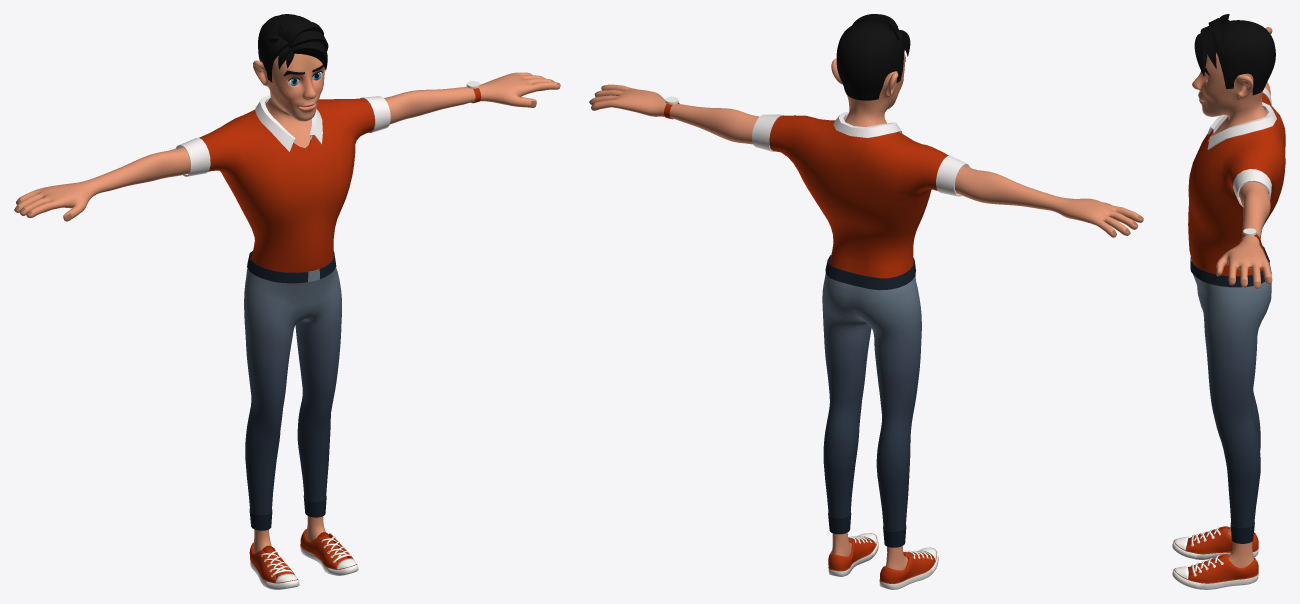
The model's file is hombre1.obj.
The picture shows the model from 3 angles, left to right: view 1: azimuth 30°, elevation 25°; view 2: azimuth 150°, elevation 25°; view 3: azimuth 270°, elevation 25°; orthographic projection.
Visible parts, largest first — view 1: D_1_mesh_003, D_2_mesh_001, Body_Vucud_006, Shoes_Plane_001, Hair_NurbsPath_001; view 2: D_2_mesh_001, D_1_mesh_003, Body_Vucud_006, Hair_NurbsPath_001, Shoes_Plane_001; view 3: D_2_mesh_001, D_1_mesh_003, Body_Vucud_006, Hair_NurbsPath_001, Shoes_Plane_001.
Part boxes in pixels (bbox=[...]): D_1_mesh_003: bbox=[175, 94, 390, 272]; D_2_mesh_001: bbox=[244, 251, 341, 530]; Body_Vucud_006: bbox=[14, 53, 560, 553]; Shoes_Plane_001: bbox=[249, 529, 358, 589]; Hair_NurbsPath_001: bbox=[258, 14, 328, 82]; D_2_mesh_001: bbox=[822, 255, 921, 547]; D_1_mesh_003: bbox=[752, 111, 970, 278]; Body_Vucud_006: bbox=[589, 51, 1143, 570]; Hair_NurbsPath_001: bbox=[836, 14, 910, 100]; Shoes_Plane_001: bbox=[828, 533, 938, 589]; D_2_mesh_001: bbox=[1190, 246, 1271, 543]; D_1_mesh_003: bbox=[1188, 87, 1285, 276]; Body_Vucud_006: bbox=[1192, 27, 1272, 568]; Hair_NurbsPath_001: bbox=[1194, 14, 1275, 95]; Shoes_Plane_001: bbox=[1172, 526, 1258, 589].
Size of the model in its own units: 7.98 by 7.82 by 1.47.
Materials: 3 (3 with a texture image).
